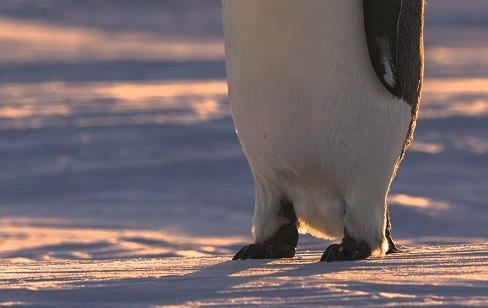Emperor Penguin: (136, 0, 459, 272)
